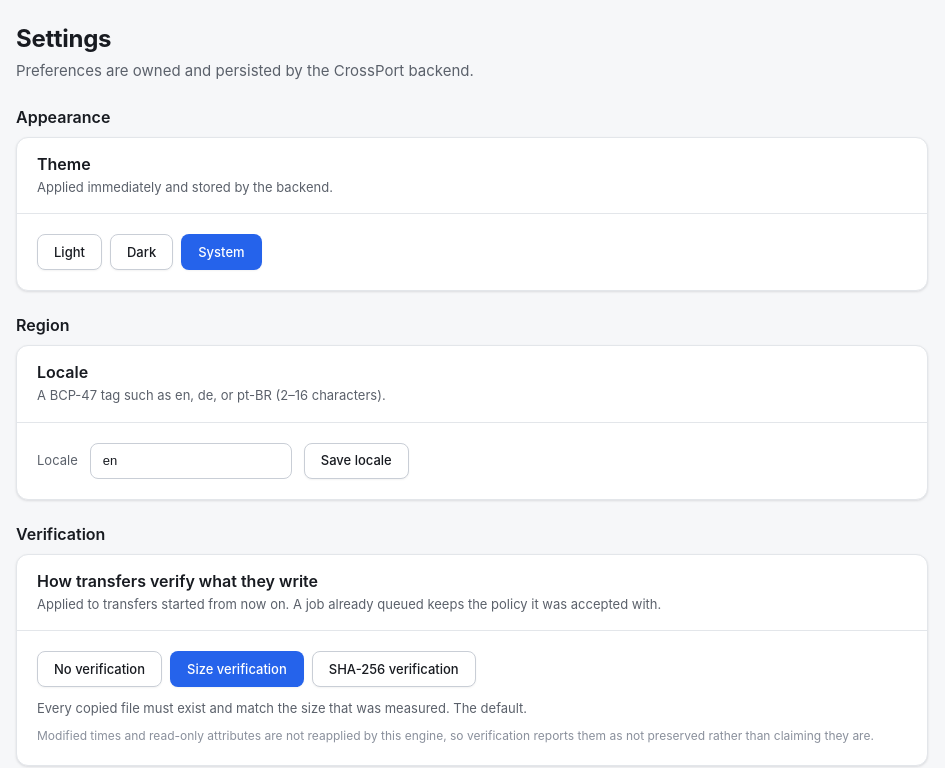
SettingsPage › shows the structured error when the backend rejects a change
This screenshot has width=945, height=768.
Click the button "Light": [69, 252] box [37,234,102,270]
(page scrolled)
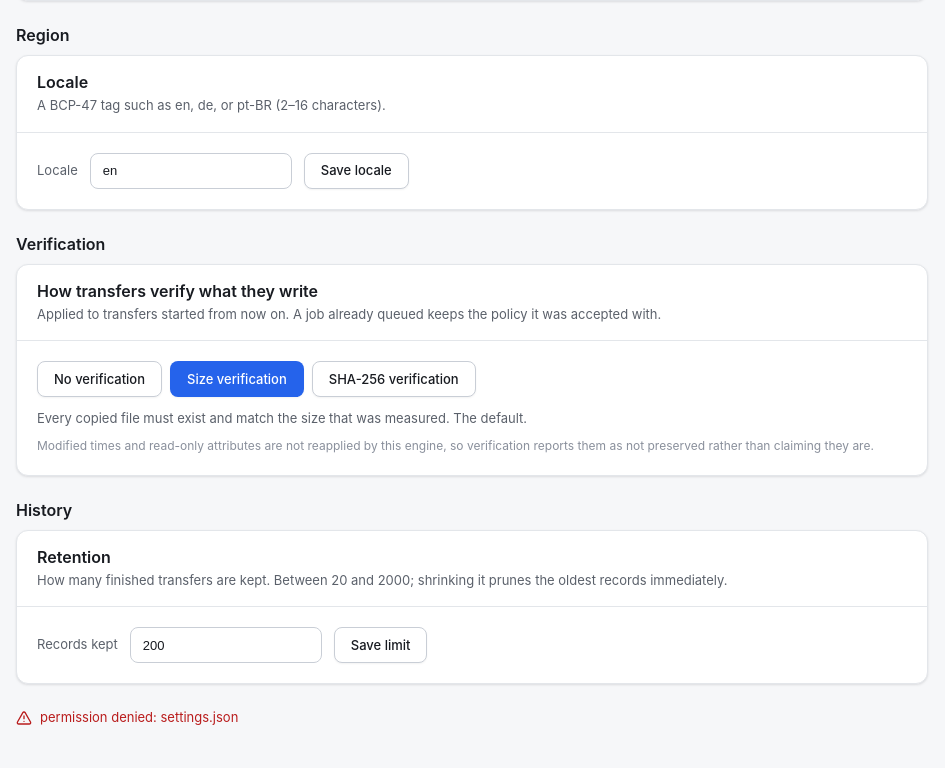
Result: the message reads "permission denied: settings.json" at [40,709,238,725]
